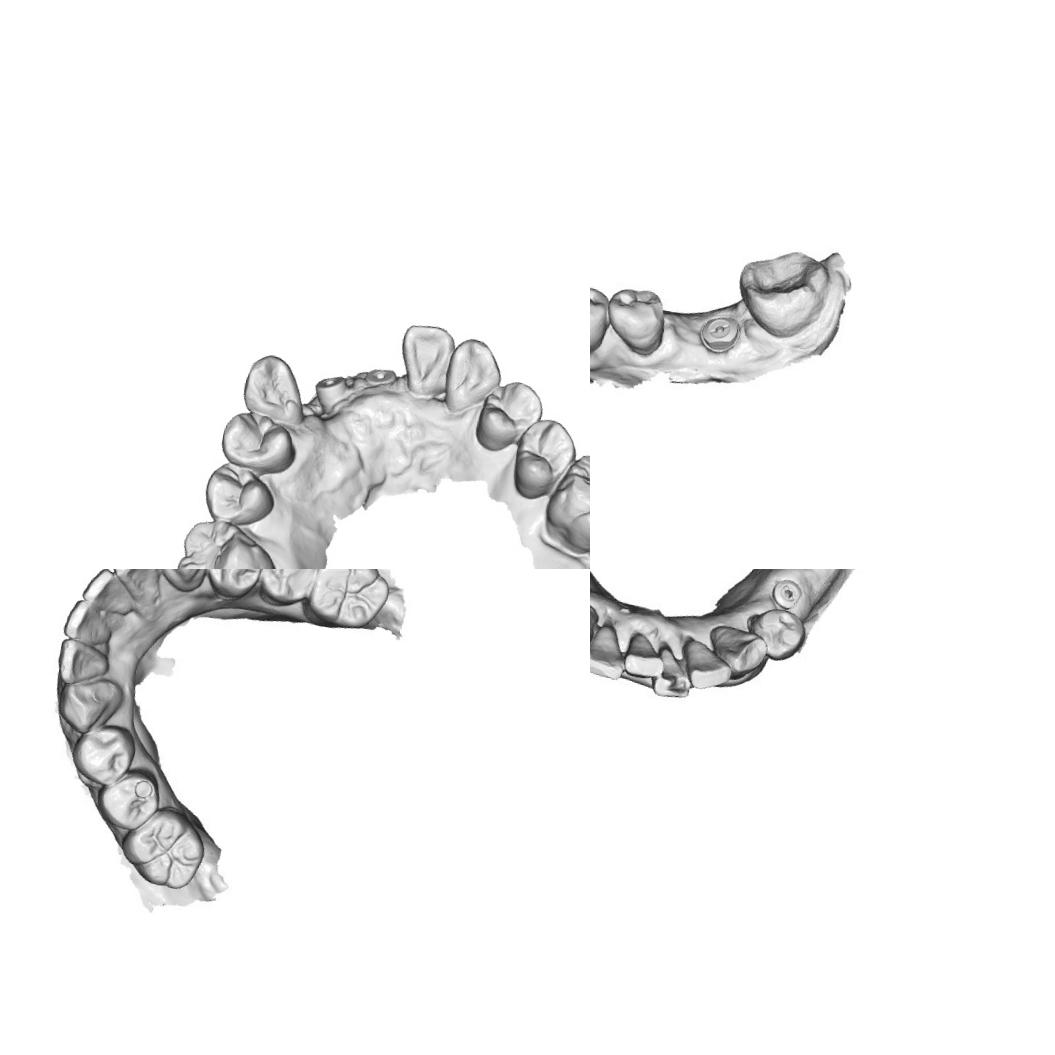canine: (433, 332, 506, 423), (235, 347, 316, 428), (53, 671, 118, 739), (706, 620, 769, 678), (150, 569, 210, 597), (590, 596, 603, 655)
implant: (308, 366, 351, 413), (358, 358, 397, 396)
implant_minus: (694, 308, 746, 359), (769, 574, 811, 618)
incisor: (391, 314, 460, 402), (60, 596, 120, 655), (678, 637, 735, 699), (647, 641, 695, 706), (77, 569, 141, 617), (54, 638, 116, 686), (590, 622, 630, 680), (104, 569, 167, 605), (622, 630, 662, 684)
molar: (727, 241, 837, 344), (118, 802, 216, 896), (536, 440, 590, 562), (301, 569, 396, 638), (165, 513, 282, 569)
premolar: (468, 370, 548, 460), (505, 412, 580, 506), (194, 456, 284, 532), (212, 404, 301, 476), (599, 279, 674, 360), (65, 717, 137, 789), (94, 765, 165, 833), (749, 607, 808, 661), (256, 569, 320, 610), (201, 569, 265, 600), (590, 281, 611, 355)
